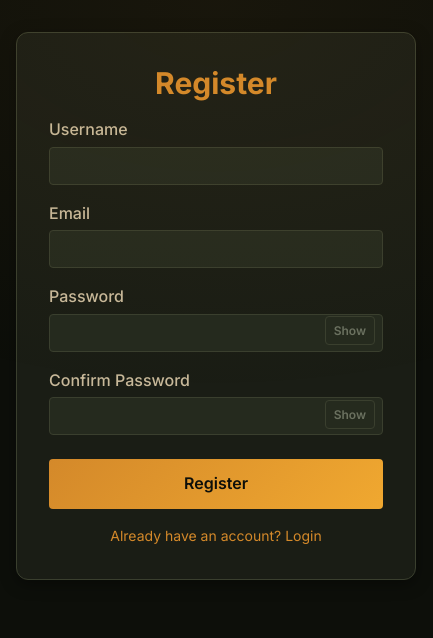
RegisterForm › shows error message when registration fails
This screenshot has width=433, height=638.
Type "newuser" into the field labelled "Username" at (216, 166), box [49,147,383,185]
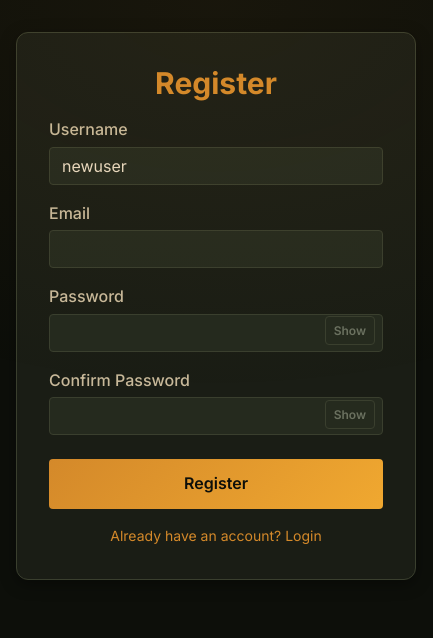
Type "new@test.com" into the field labelled "Email" at (216, 249), box [49,230,383,268]
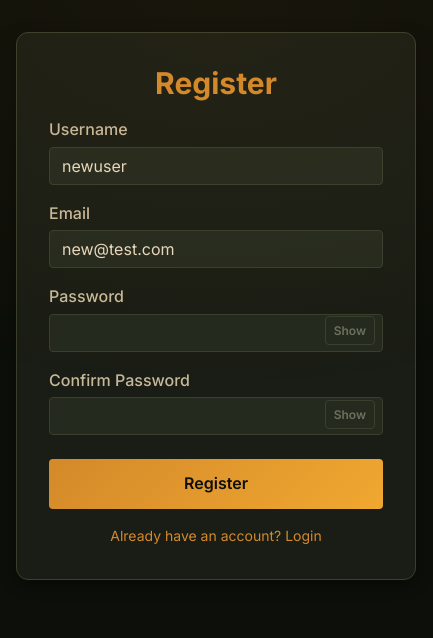
Type "password123" into the password field labelled "Password Show" at (216, 333), box [49,314,383,352]
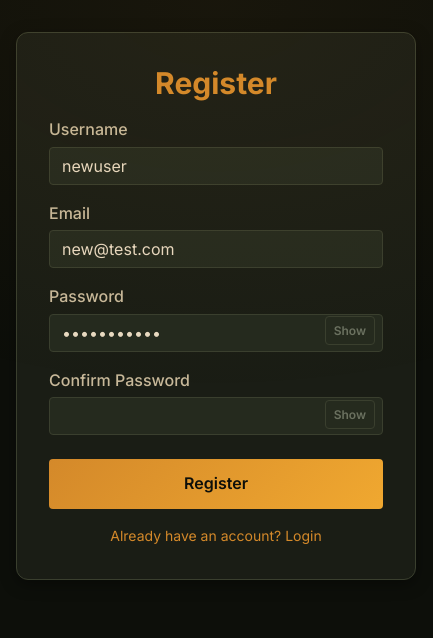
Type "password123" into the password field labelled "Confirm Password Show" at (216, 416), box [49,397,383,435]
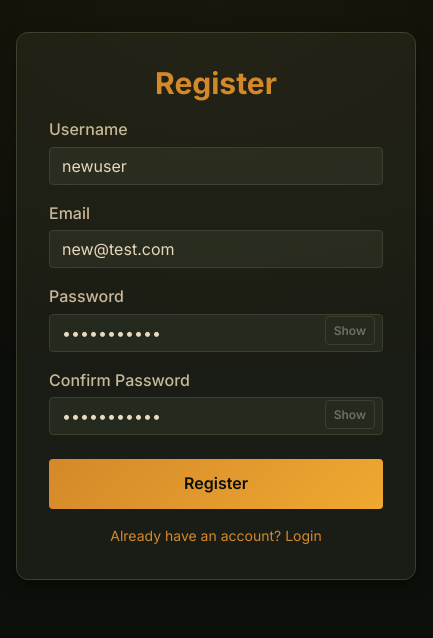
Click the button "Register" at (216, 484), box [49,459,383,509]
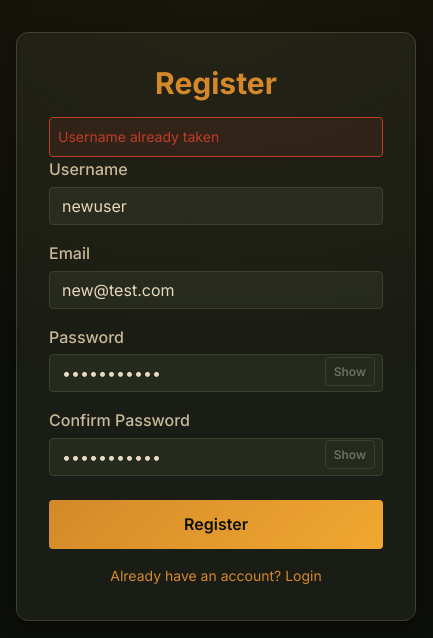
Now the message reads "Username already taken", box [58,128,219,145]
